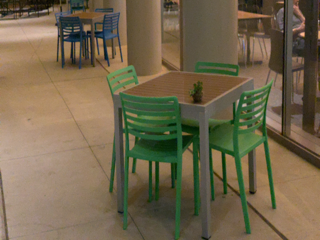Obstacle: (108, 55, 274, 226), (179, 4, 252, 99), (54, 6, 124, 66), (125, 0, 163, 72)
